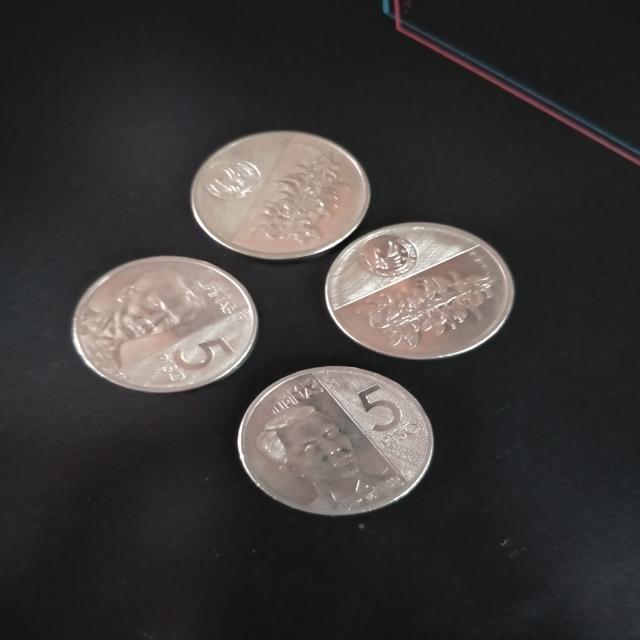5_New_Back: (355, 266, 499, 360)
5_New_Front: (349, 372, 433, 462), (160, 332, 244, 387)
